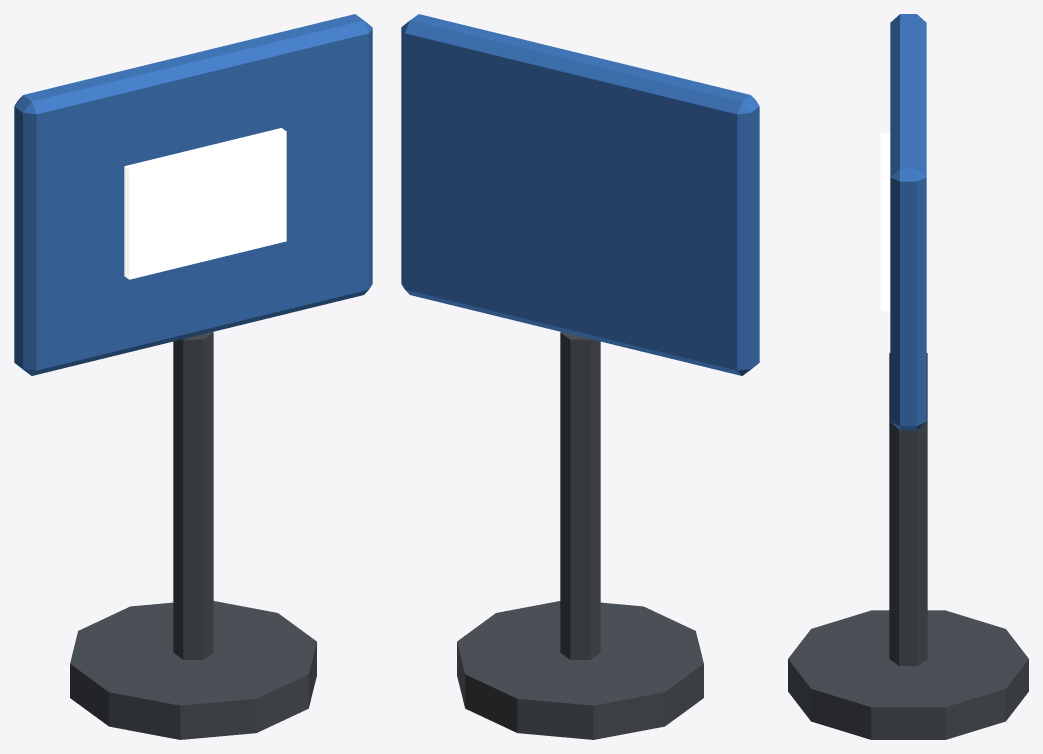
The model's file is prop_delegation_p0.glb.
3 renders of one model, left to right at view 1: azimuth 30°, elevation 25°; view 2: azimuth 150°, elevation 25°; view 3: azimuth 270°, elevation 25°, orthographic. The views are drawn at different scales.
Visible parts, largest first — view 1: prop_delegation_p0_mesh; view 2: prop_delegation_p0_mesh; view 3: prop_delegation_p0_mesh.
Boxes of the visible parts, box(x1,y1,x2,y2) form: prop_delegation_p0_mesh: box(14, 14, 372, 739); prop_delegation_p0_mesh: box(401, 14, 759, 739); prop_delegation_p0_mesh: box(788, 14, 1028, 739).
Size of the model in its own units: 0.16 by 0.275 by 0.1.
